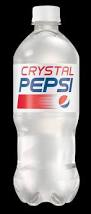pepsi: (17, 78, 75, 94), (59, 95, 71, 111)
plastic: (13, 5, 84, 207)
